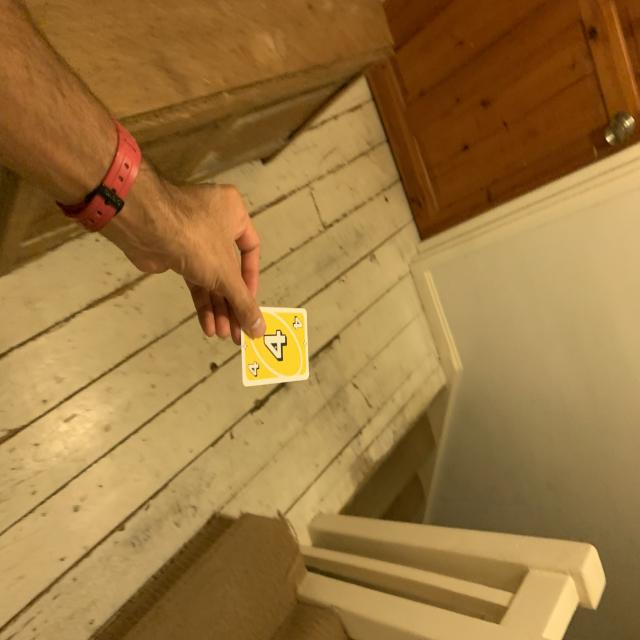lyellow-4: (288, 314, 306, 334)
